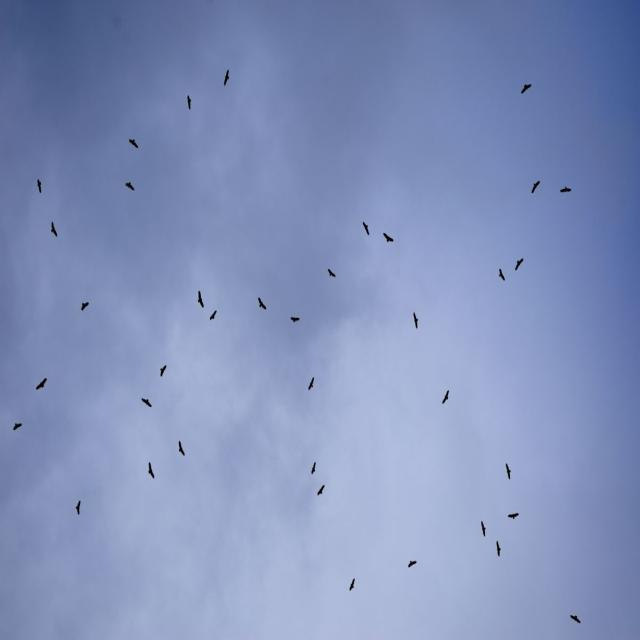bird: (196, 290, 208, 311), (144, 462, 156, 482), (36, 376, 49, 393), (410, 310, 421, 330), (360, 221, 372, 238), (175, 440, 186, 458), (222, 68, 233, 86), (441, 390, 452, 408), (494, 540, 505, 558), (519, 83, 532, 98), (528, 181, 540, 197), (514, 258, 526, 274), (504, 463, 514, 482), (478, 519, 488, 538), (50, 222, 60, 240), (257, 297, 269, 312), (314, 483, 326, 498), (308, 462, 319, 478), (346, 578, 357, 594), (72, 501, 82, 518), (34, 179, 44, 196), (185, 95, 195, 112), (306, 376, 316, 393), (382, 232, 395, 245), (206, 308, 218, 322), (558, 186, 572, 198), (506, 511, 521, 522), (139, 398, 152, 410), (128, 137, 140, 150), (80, 300, 91, 314), (498, 268, 508, 283), (12, 420, 24, 432), (327, 268, 339, 280), (570, 615, 583, 626), (158, 365, 168, 379), (125, 182, 136, 194), (406, 558, 418, 569), (290, 315, 302, 325)
